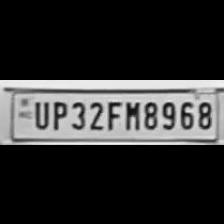2: (86, 97, 104, 130)
3: (68, 96, 86, 130)
6: (176, 97, 194, 129)
8: (140, 97, 158, 129), (194, 97, 212, 128)
9: (159, 96, 177, 130)
F: (104, 97, 122, 130)
M: (122, 97, 140, 130)
P: (48, 96, 68, 130)
U: (31, 96, 50, 130)
